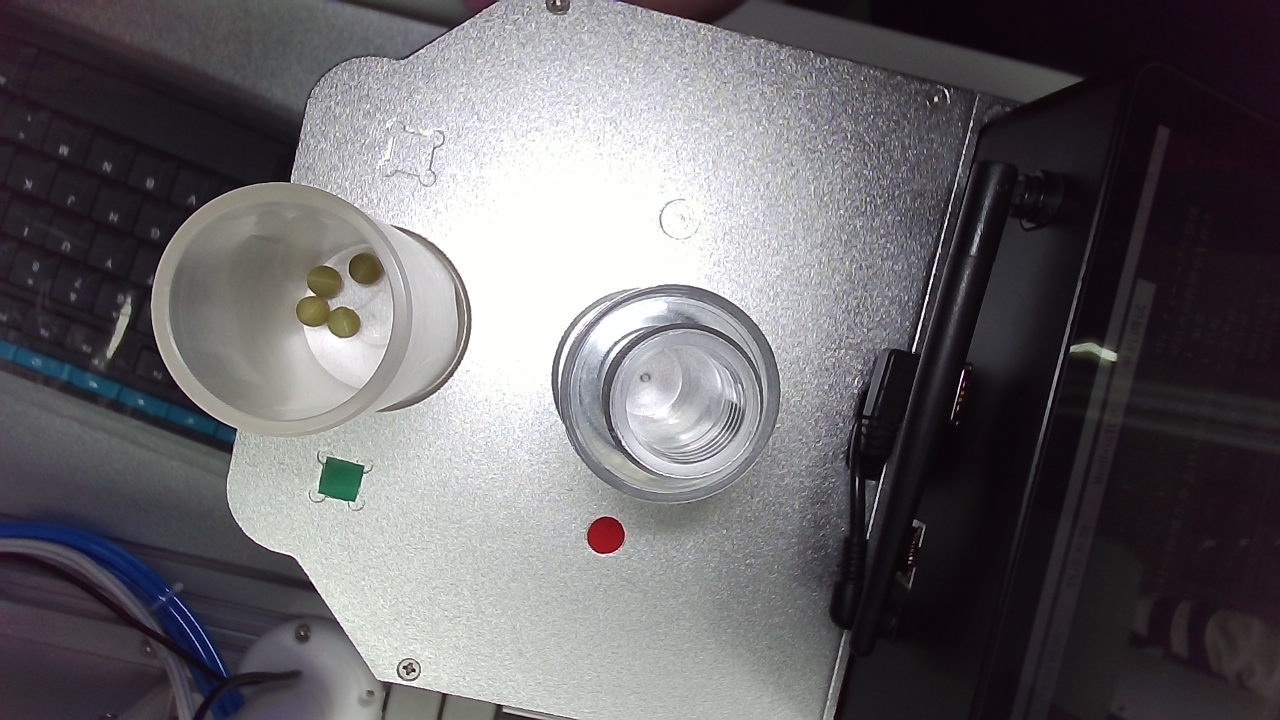XLabel: (483, 48, 552, 118)
YLabel: (913, 81, 977, 155)
none: (779, 215, 1109, 552)
whiteempty: (249, 137, 660, 519)
